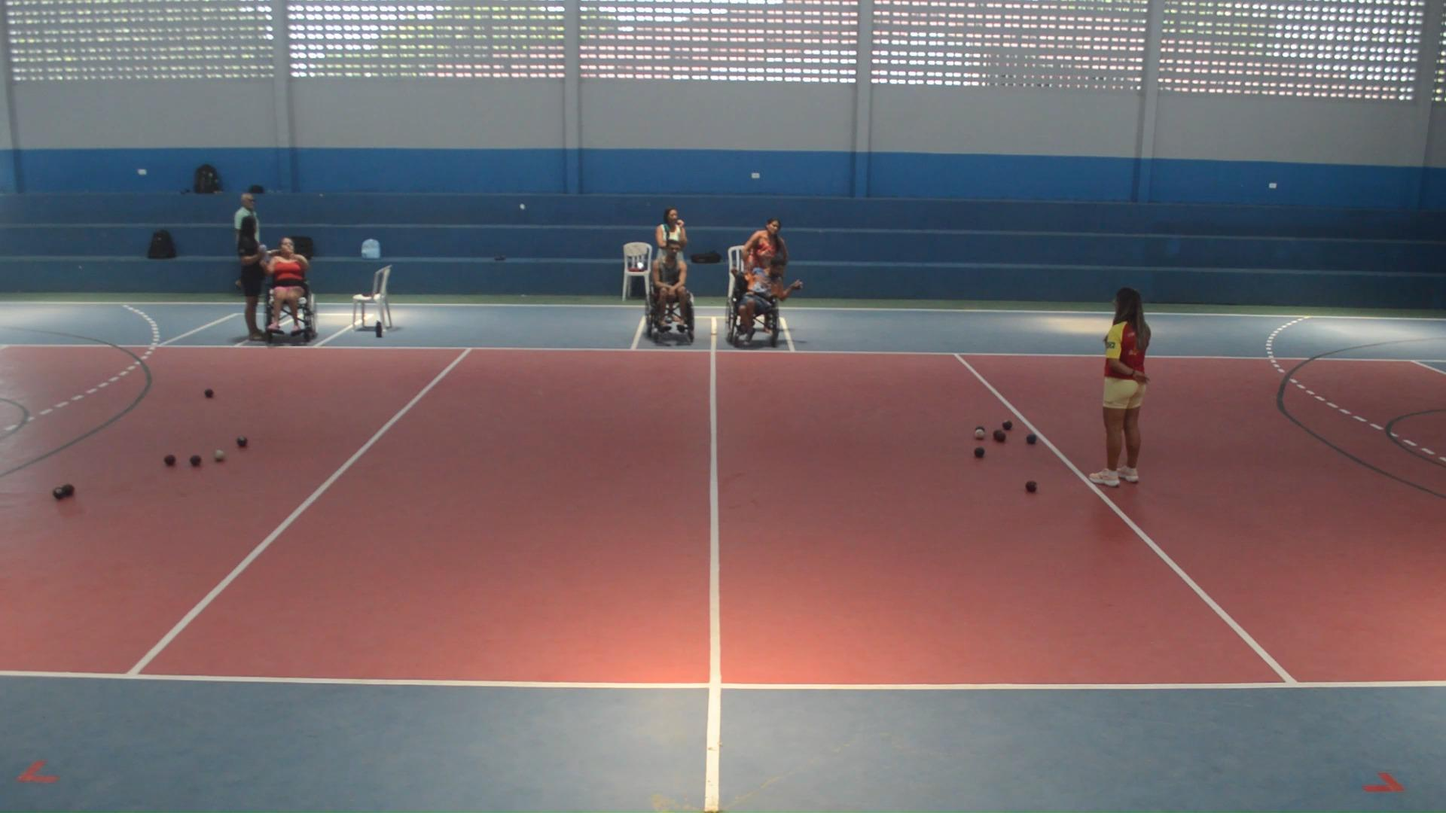blue_ball: (974, 446, 985, 458), (1026, 434, 1037, 444)
red_ball: (1025, 480, 1037, 493), (1001, 419, 1013, 430), (995, 432, 1007, 442)
white_ball: (975, 429, 984, 439)
